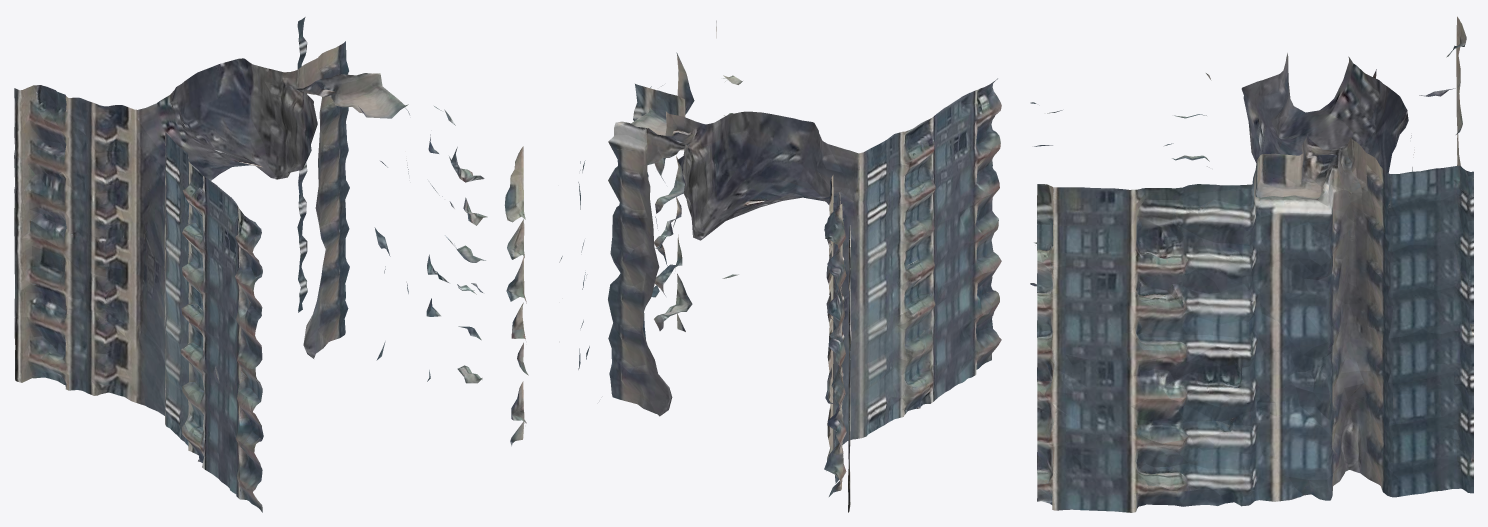
Rendered from Tile_+012_+009_L20_000002420.glb.
3 views of the same model, side by side, from view 1: azimuth 30°, elevation 25°; view 2: azimuth 150°, elevation 25°; view 3: azimuth 270°, elevation 25° (orthographic). The views are drawn at different scales.
Visible parts, largest first — view 1: rtc; view 2: rtc; view 3: rtc.
Boxes of the visible parts, x1,y1,x2,y2 form: rtc: (14,17,528,512); rtc: (559,20,1001,512); rtc: (1030,16,1473,512).
Bounding box in the file's own units: 30.21 × 25.67 × 31.98.
1 material, 1 textured.
